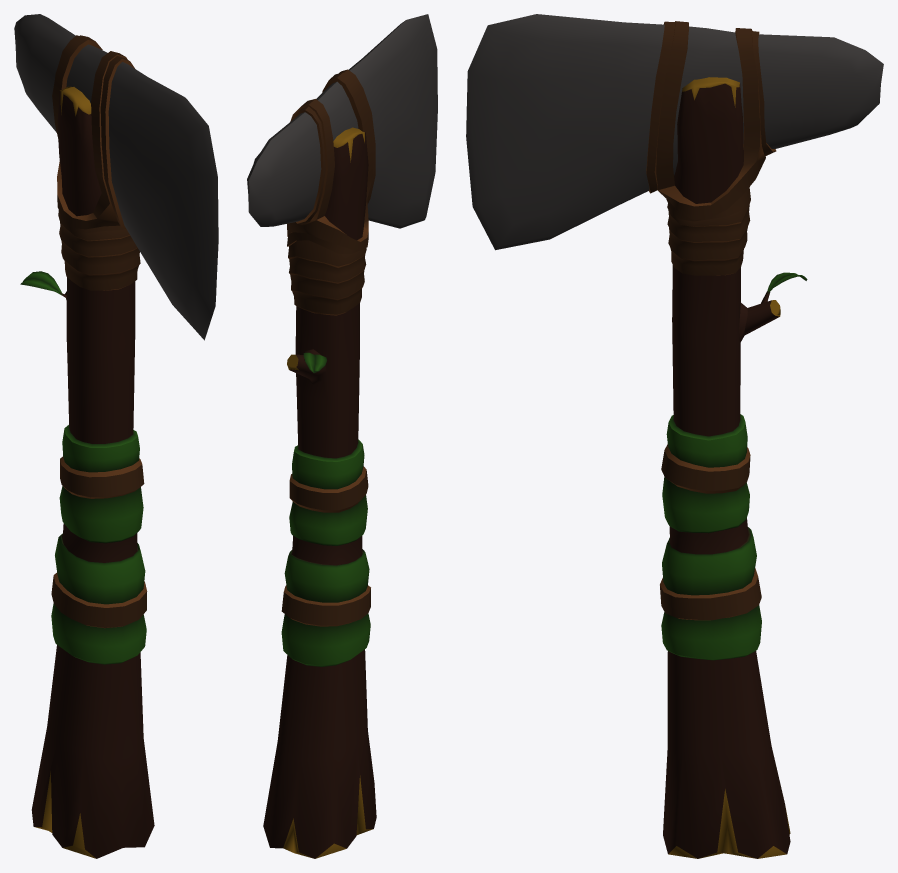
Rendered from hatchet_w.fbx.
3 renders of one model, left to right at view 1: azimuth 30°, elevation 25°; view 2: azimuth 150°, elevation 25°; view 3: azimuth 270°, elevation 25°, orthographic. The views are drawn at different scales.
Parts seen in each view (by area): view 1: pPlane2; view 2: pPlane2; view 3: pPlane2.
Boxes of the visible parts, box(x1,y1,x2,y2) form: pPlane2: box(14, 14, 218, 858); pPlane2: box(247, 14, 437, 858); pPlane2: box(466, 14, 883, 858).
Bounding box in the file's own units: 3.59 × 30.84 × 14.08.
